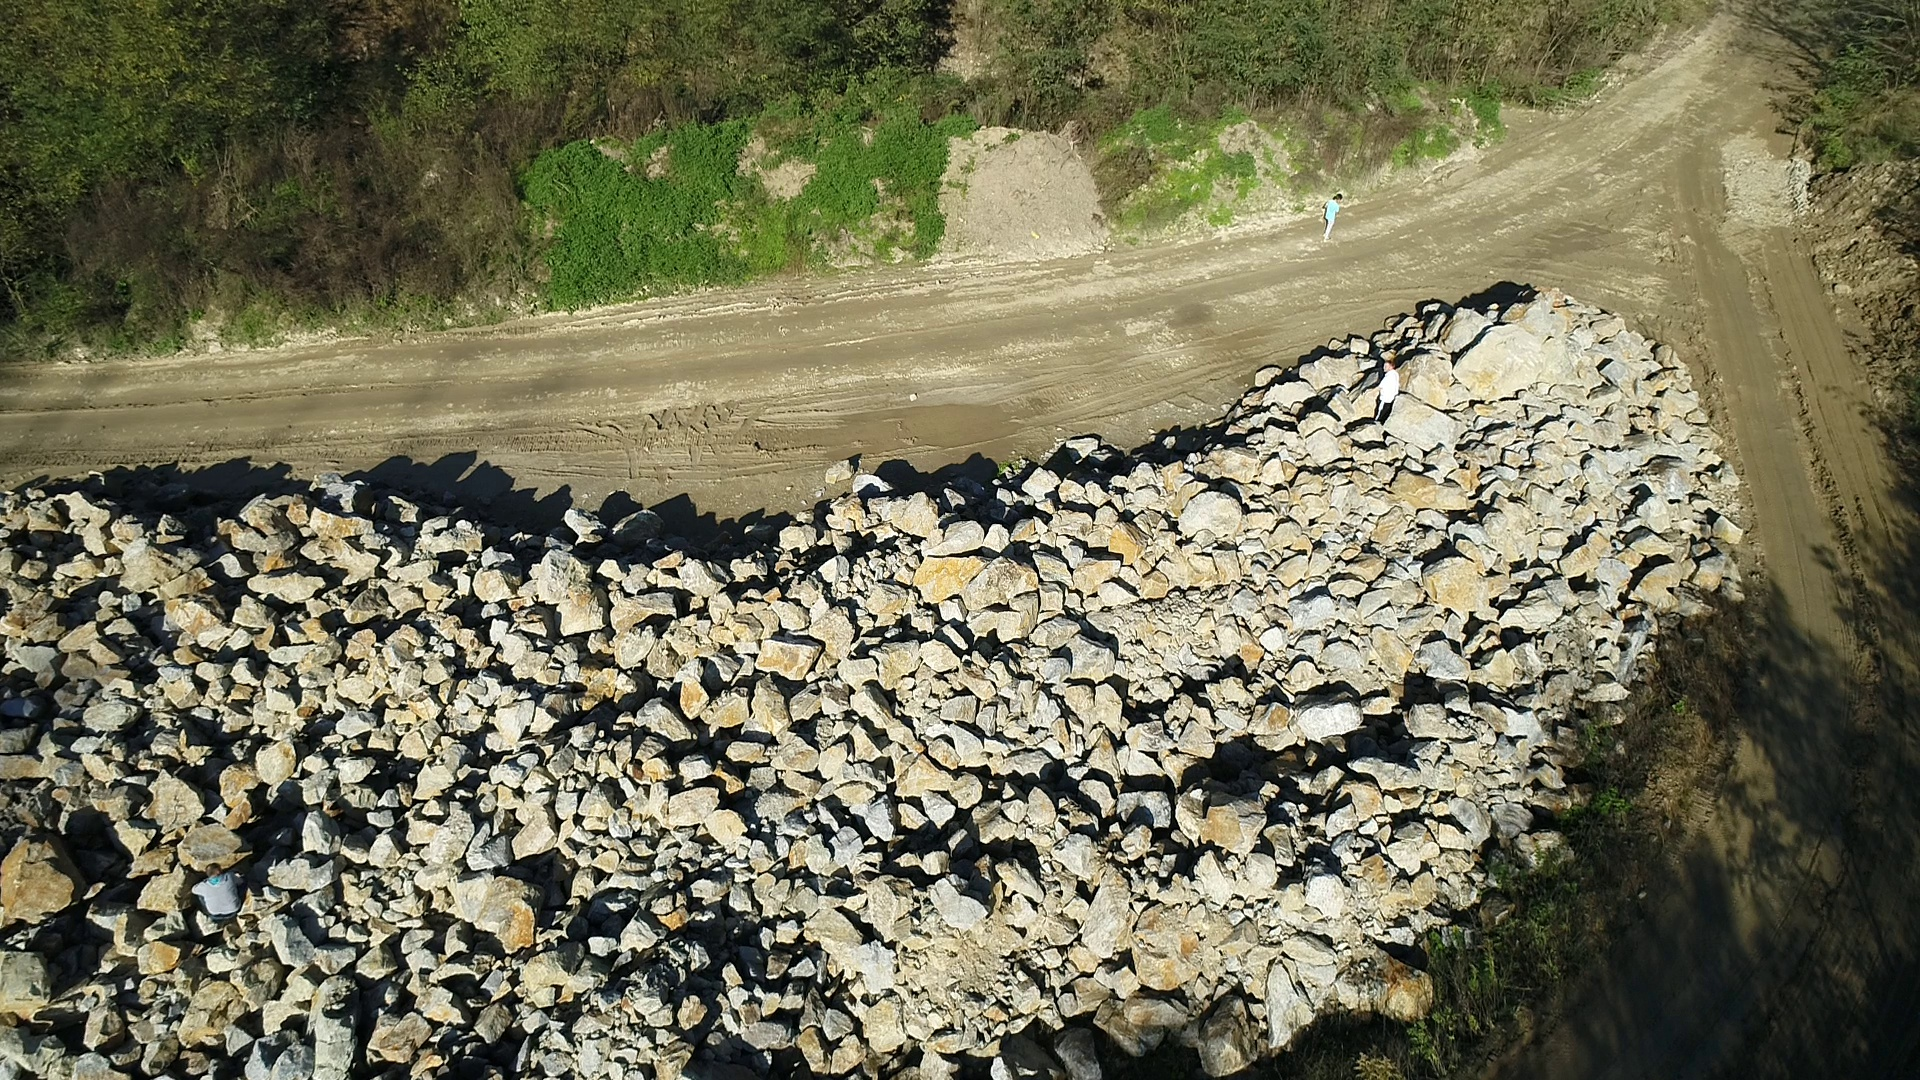person: (191, 862, 243, 920), (1371, 360, 1399, 426), (1322, 192, 1343, 242)
